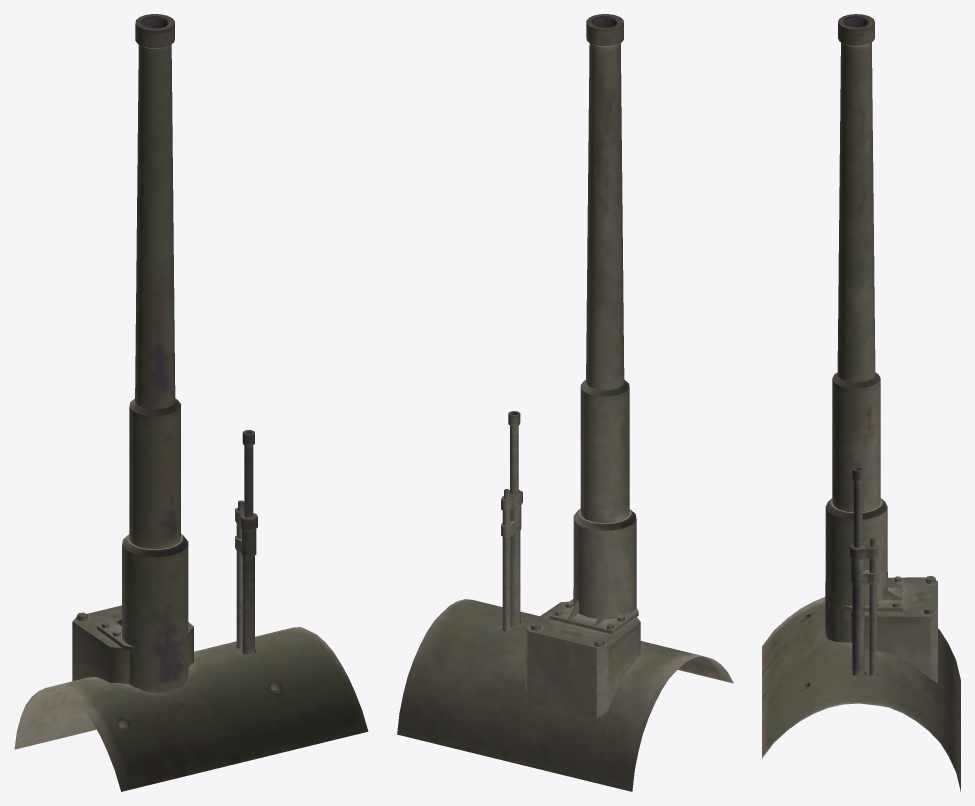
File: Gun_09.glb
The picture shows the model from 3 angles, left to right: view 1: azimuth 30°, elevation 25°; view 2: azimuth 150°, elevation 25°; view 3: azimuth 270°, elevation 25°; orthographic projection. The views are drawn at different scales.
Visible parts, largest first — view 1: set_0_group_0; view 2: set_0_group_0; view 3: set_0_group_0.
Part boxes in pixels (x1,y1,x2,y2): set_0_group_0: (14, 14, 368, 791); set_0_group_0: (397, 14, 733, 791); set_0_group_0: (762, 14, 960, 791).
Size of the model in its own units: 0.4928 by 1.42 by 0.3682.
1 material, 1 textured.
